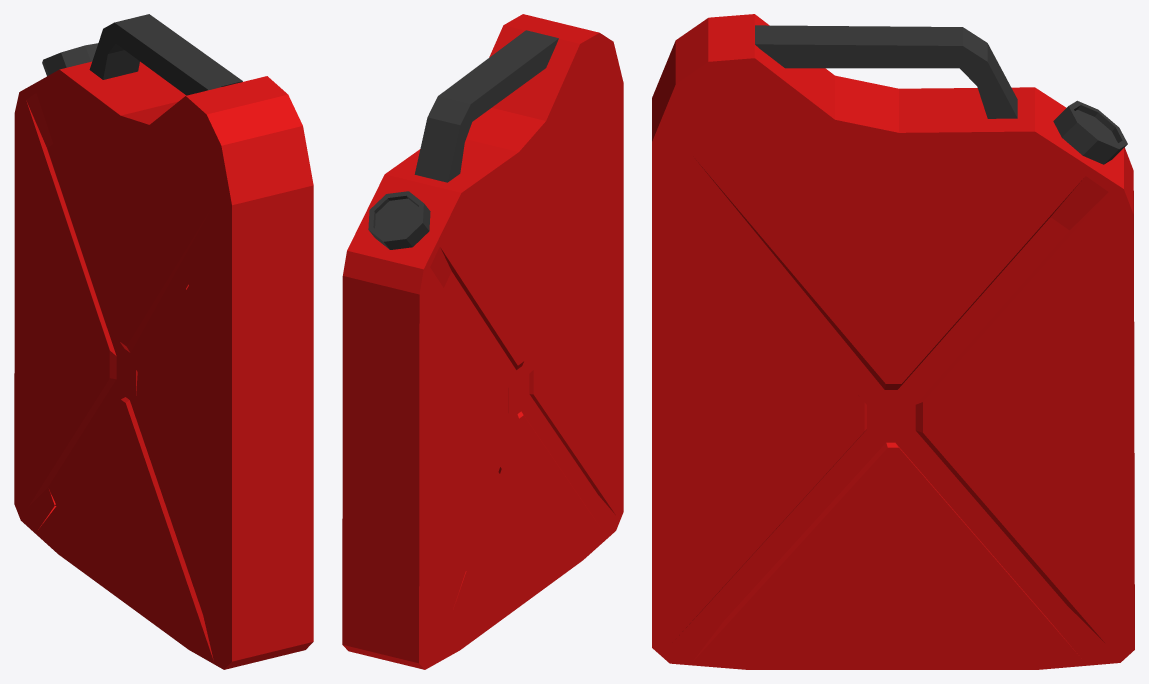
Rendered from jerry_can.glb.
The picture shows the model from 3 angles, left to right: view 1: azimuth 30°, elevation 25°; view 2: azimuth 150°, elevation 25°; view 3: azimuth 270°, elevation 25°; orthographic projection. The views are drawn at different scales.
Parts seen in each view (by area): view 1: Plane_0; view 2: Plane_0; view 3: Plane_0.
Boxes of the visible parts, left/top/right/bottom form: Plane_0: left=14, top=14, right=313, bottom=669; Plane_0: left=342, top=14, right=623, bottom=669; Plane_0: left=652, top=14, right=1134, bottom=669.
Size of the model in its own units: 0.7489 by 4.84 by 3.46.
1 material, 1 textured.
